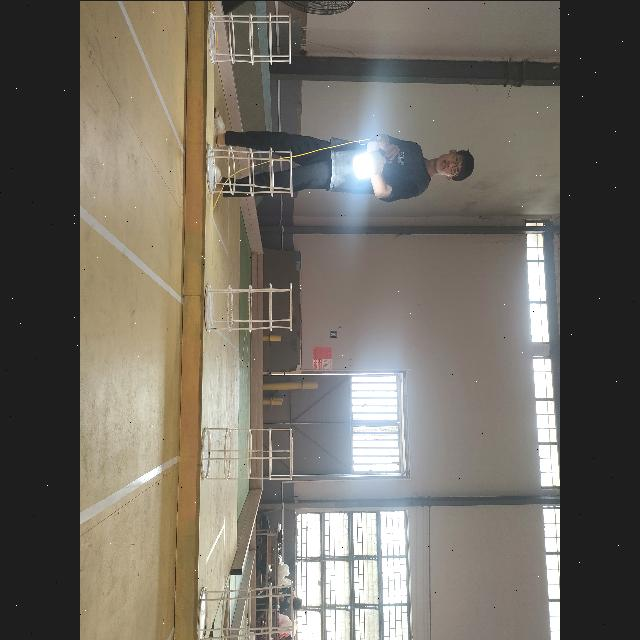S: (195, 576, 298, 640), (198, 422, 296, 482), (205, 11, 298, 74), (201, 277, 295, 333), (203, 144, 294, 196)
